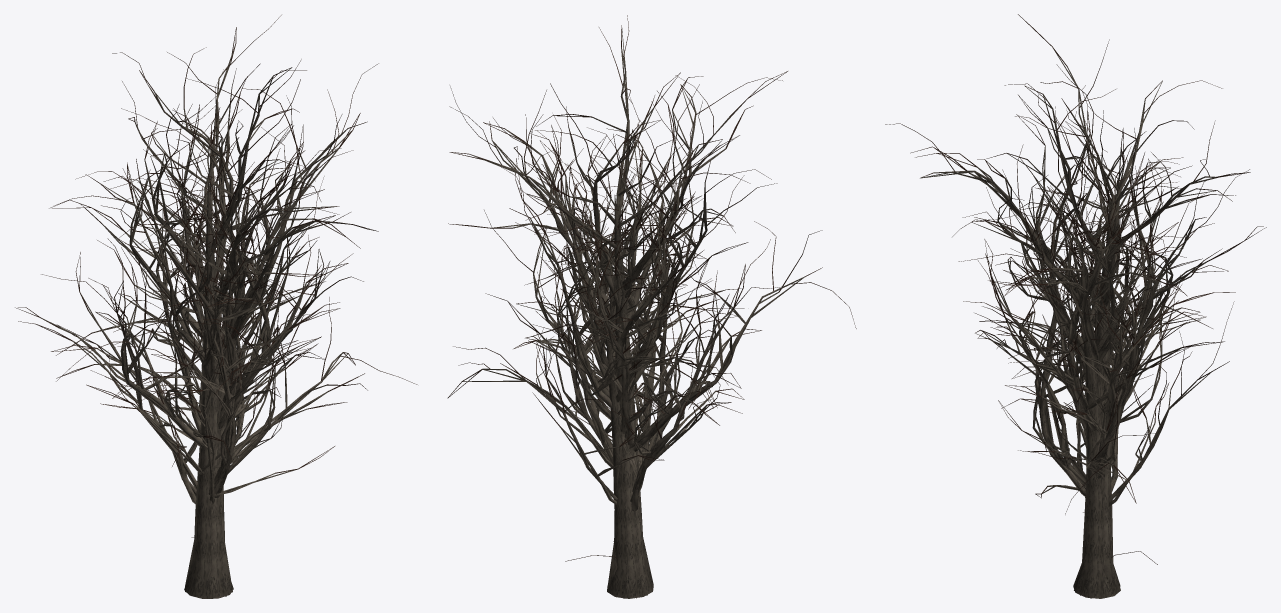
File: oak_wood.glb
3 renders of one model, left to right at view 1: azimuth 30°, elevation 25°; view 2: azimuth 150°, elevation 25°; view 3: azimuth 270°, elevation 25°, orthographic. The views are drawn at different scales.
Parts seen in each view (by area): view 1: oak_c, oak_a, oak_c_l1, oak_a_l1, oak_c_l2, oak_b, oak_a_l2, oak_b_l1, oak_b_l2; view 2: oak_c, oak_a, oak_c_l1, oak_a_l1, oak_b, oak_c_l2, oak_b_l1, oak_a_l2, oak_b_l2; view 3: oak_c, oak_a, oak_c_l1, oak_a_l1, oak_c_l2, oak_b, oak_a_l2, oak_b_l1, oak_b_l2.
Part boxes in pixels (box(x1,y1,x2,y2)): oak_c: box(18, 15, 378, 598); oak_a: box(18, 89, 363, 519); oak_c_l1: box(15, 27, 378, 596); oak_a_l1: box(36, 105, 364, 496); oak_c_l2: box(97, 28, 347, 598); oak_b: box(86, 162, 417, 503); oak_a_l2: box(117, 109, 363, 490); oak_b_l1: box(88, 180, 355, 500); oak_b_l2: box(89, 233, 352, 495); oak_c: box(448, 15, 856, 598); oak_a: box(483, 114, 786, 522); oak_c_l1: box(449, 28, 803, 598); oak_a_l1: box(505, 129, 745, 502); oak_b: box(447, 196, 744, 508); oak_c_l2: box(450, 48, 803, 598); oak_b_l1: box(448, 197, 729, 500); oak_a_l2: box(483, 122, 745, 491); oak_b_l2: box(462, 221, 730, 493); oak_c: box(885, 14, 1250, 598); oak_a: box(962, 122, 1263, 492); oak_c_l1: box(912, 17, 1248, 598); oak_a_l1: box(978, 130, 1266, 487); oak_c_l2: box(920, 81, 1225, 595); oak_b: box(975, 186, 1234, 515); oak_a_l2: box(971, 129, 1172, 490); oak_b_l1: box(980, 186, 1207, 502); oak_b_l2: box(975, 202, 1229, 502).
Bounding box in the file's own units: 12.91 × 17.34 × 11.35.
Materials: 2 (2 with a texture image).
